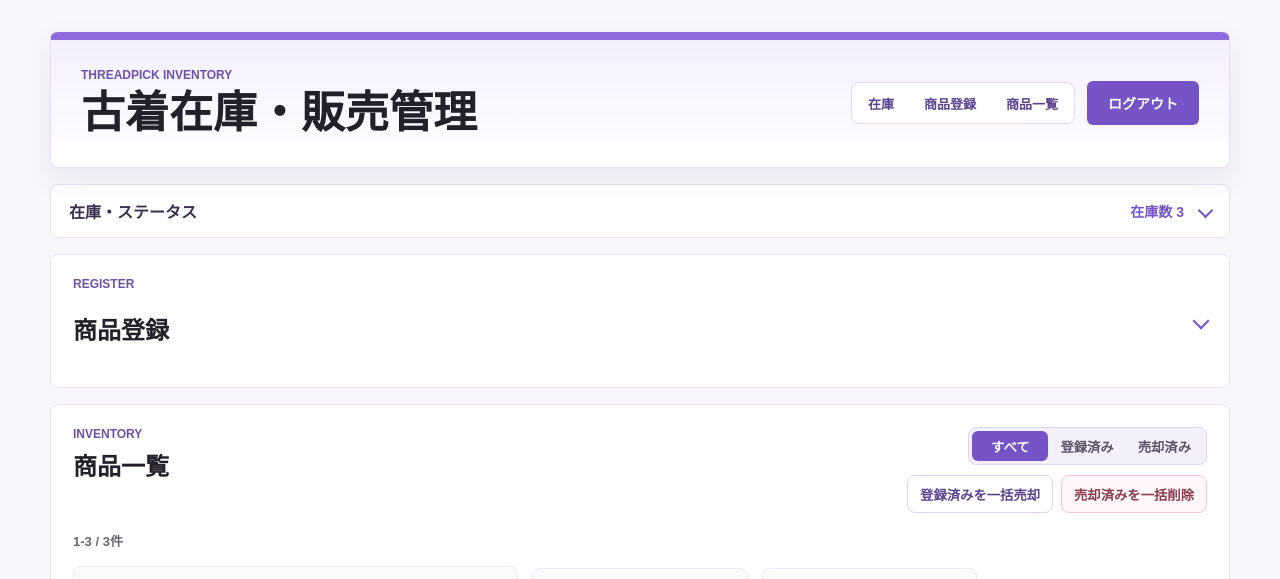
Test case: InventoryDashboard › shows a Japanese validation message before posting a duplicate management number
Expected: the text "在庫数 3" is shown, [1130, 201, 1184, 221]
Click the heading named "商品登録フォームを開閉": (104, 284) [73, 277, 169, 344]
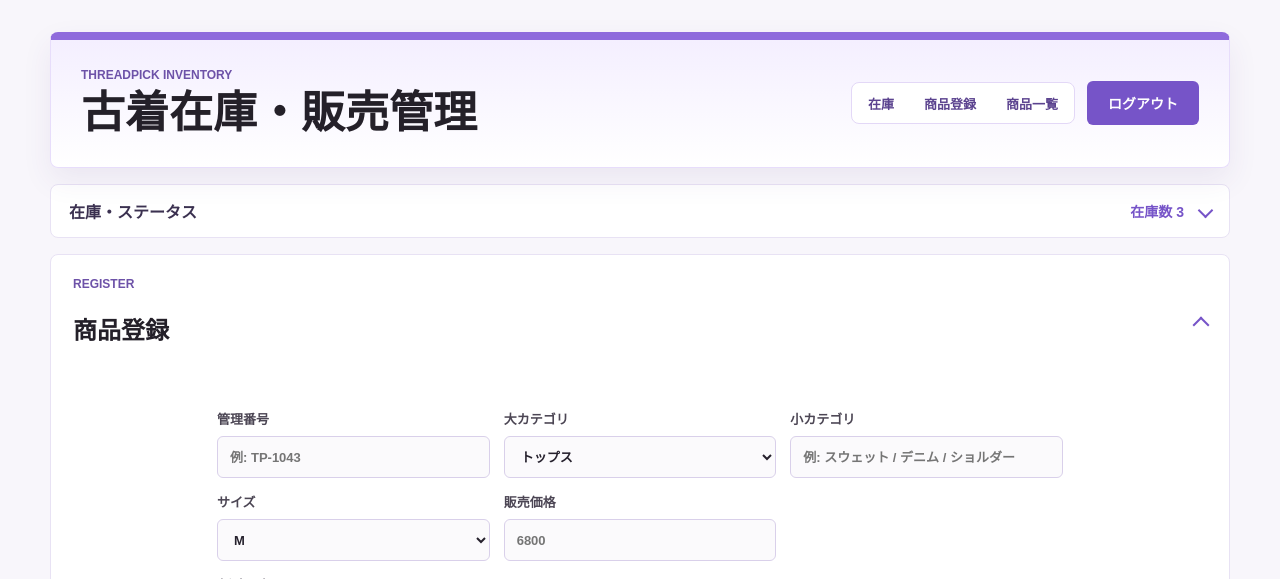
In the field labelled "管理番号": (353, 457) [217, 436, 490, 478], type "TP-1042"
(page scrolled)
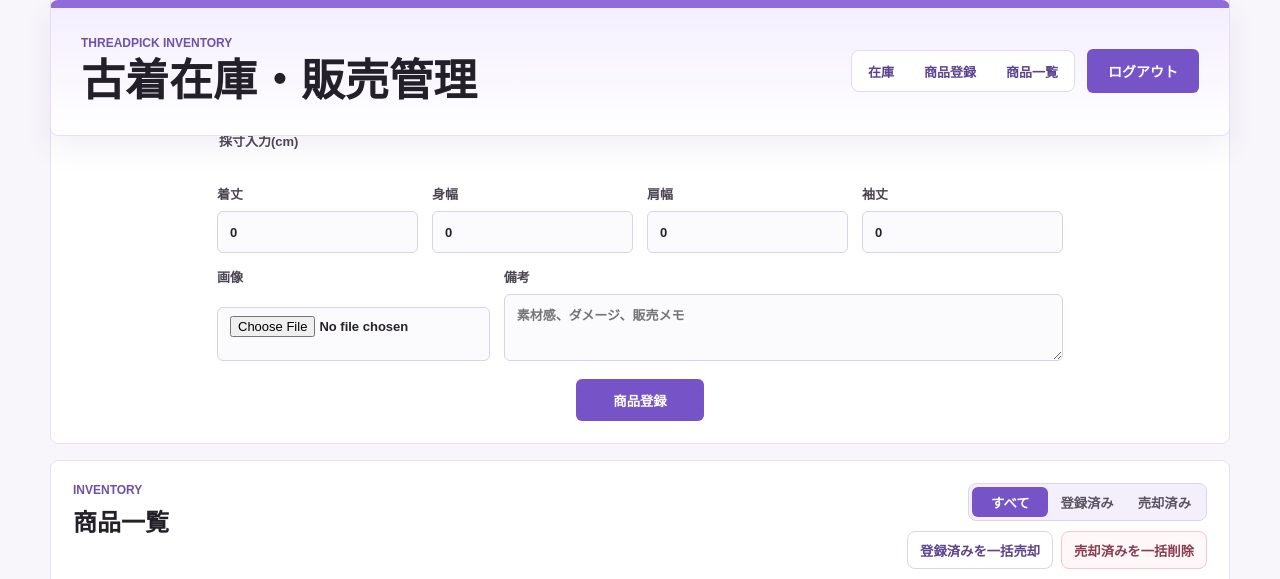
Click the button "商品登録" below "販売価格": (640, 400) [576, 379, 704, 421]
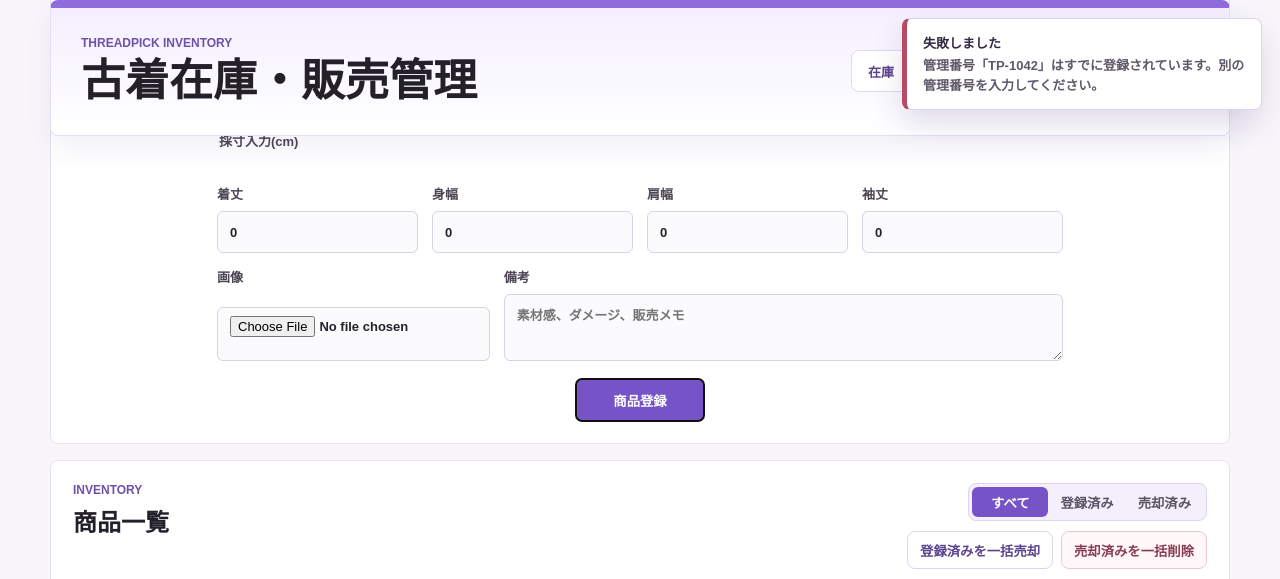
Result: the message shows "管理番号「TP-1042」はすでに登録されています。別の管理番号を入力してください。" at [923, 58, 1244, 92]
